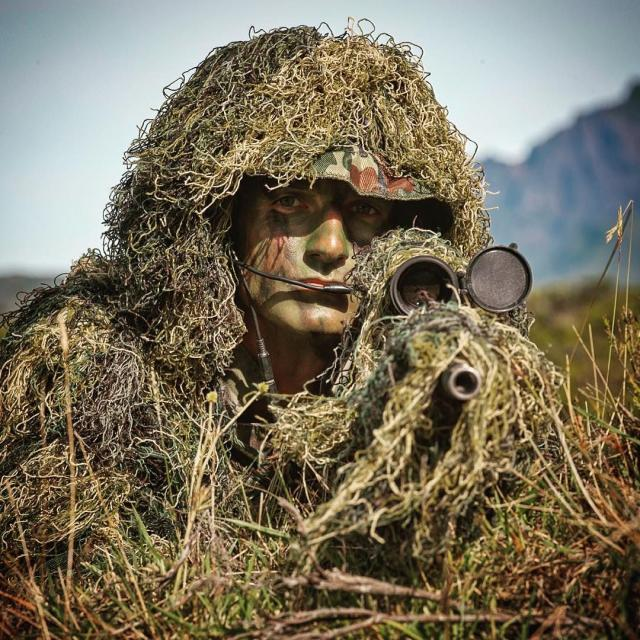Human: (9, 17, 532, 399)
